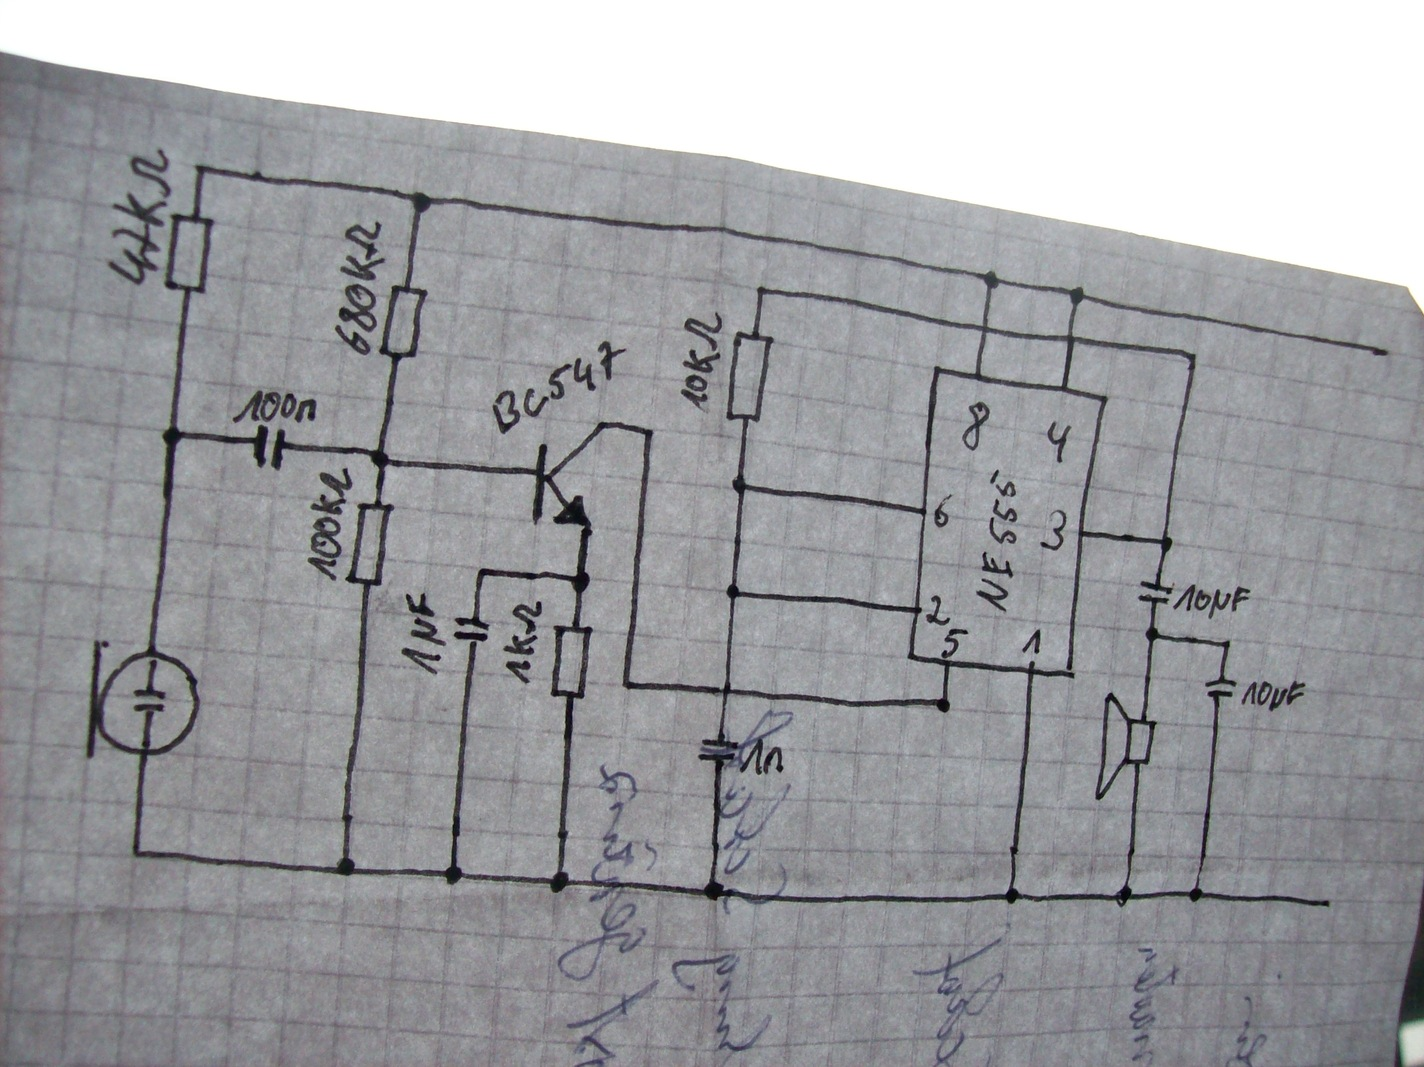capacitor.unpolarized: (251, 423, 287, 472), (452, 615, 492, 648), (697, 736, 738, 764), (1136, 579, 1173, 606), (1204, 676, 1237, 700)
crossover: (718, 679, 738, 702), (975, 319, 996, 338), (1062, 330, 1081, 347)
integrated_cricuit.ne555: (904, 364, 1110, 681)
junction: (702, 879, 727, 904), (547, 869, 570, 896), (366, 446, 392, 470), (160, 424, 184, 447), (333, 855, 357, 878), (980, 268, 1003, 293), (569, 570, 592, 595), (410, 191, 432, 215), (443, 863, 464, 888), (1113, 883, 1133, 908), (1067, 282, 1087, 307), (729, 474, 750, 495), (1186, 884, 1206, 904), (936, 694, 953, 715), (1157, 533, 1175, 554), (190, 161, 212, 178), (1143, 625, 1162, 643), (725, 582, 742, 602), (637, 424, 658, 440), (128, 844, 145, 863), (1003, 887, 1020, 906), (753, 281, 769, 300), (1184, 350, 1203, 365), (618, 676, 634, 693), (474, 564, 488, 581), (1221, 635, 1235, 652)
microphone: (82, 638, 202, 761)
resistor: (724, 330, 775, 423), (162, 211, 216, 299), (343, 501, 397, 588), (376, 282, 430, 363), (548, 622, 595, 700)
speaker: (1093, 692, 1158, 801)
terminal: (1378, 342, 1399, 365), (1319, 894, 1337, 911)
text: (488, 338, 630, 435), (102, 145, 174, 287), (332, 217, 387, 358), (974, 468, 1020, 613), (305, 466, 355, 583), (680, 310, 724, 412), (399, 591, 447, 678), (500, 599, 545, 687), (229, 388, 319, 424), (1172, 581, 1251, 620), (1239, 678, 1307, 712), (739, 737, 787, 777), (960, 399, 994, 453), (1037, 507, 1069, 554), (1045, 418, 1074, 466), (939, 628, 969, 659), (931, 492, 956, 529), (924, 594, 950, 627), (1021, 627, 1044, 656)
transistor: (529, 419, 608, 532)
